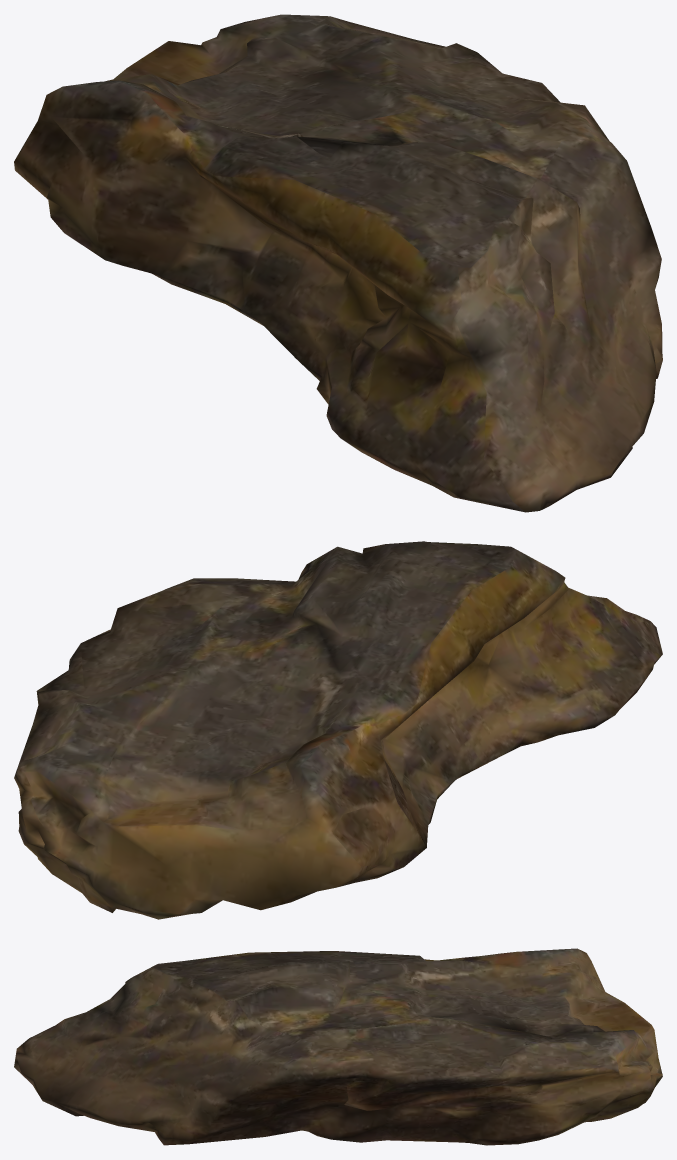
File: rock_09.glb
The picture shows the model from 3 angles, top to bottom: view 1: azimuth 30°, elevation 25°; view 2: azimuth 150°, elevation 25°; view 3: azimuth 270°, elevation 25°; orthographic projection. The views are drawn at different scales.
Parts seen in each view (by area): view 1: rock_09_LOD0; view 2: rock_09_LOD0; view 3: rock_09_LOD0.
Boxes of the visible parts, x1,y1,x2,y2 form: rock_09_LOD0: (14, 14, 662, 512); rock_09_LOD0: (14, 541, 662, 919); rock_09_LOD0: (14, 948, 662, 1145).
Size of the model in its own units: 0.0738 by 0.0326 by 0.1446.
1 material, 1 textured.
